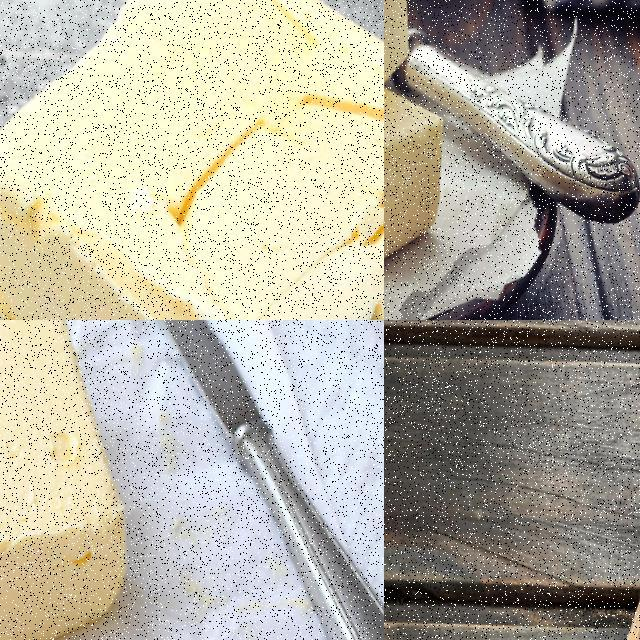Butter: (0, 0, 383, 319), (0, 320, 132, 639), (384, 29, 443, 318)
